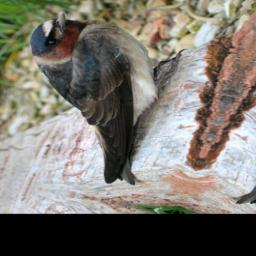Swallow: (0, 4, 207, 192)
